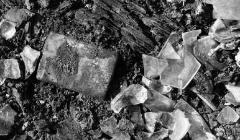glass: (114, 30, 218, 140)
